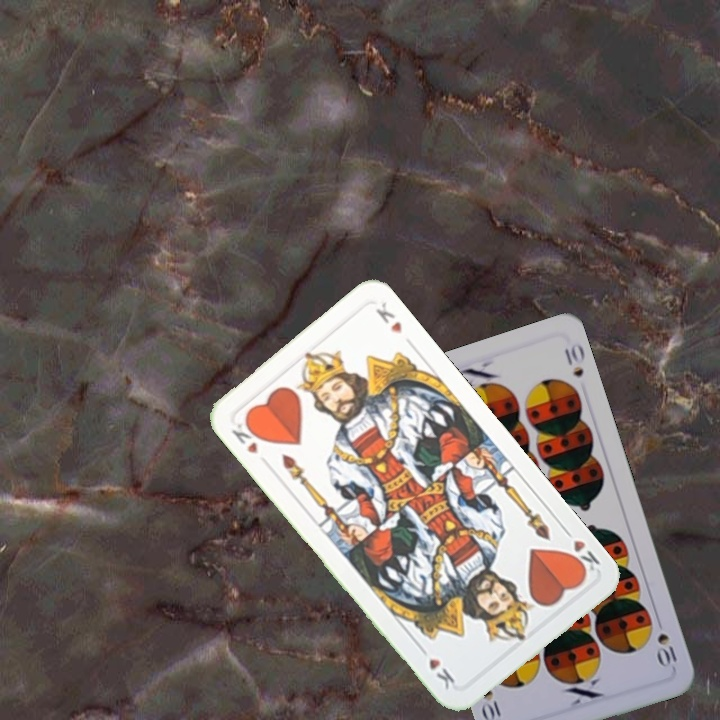HK: (558, 523, 603, 578), (227, 416, 265, 457)
S10: (652, 629, 681, 670)
